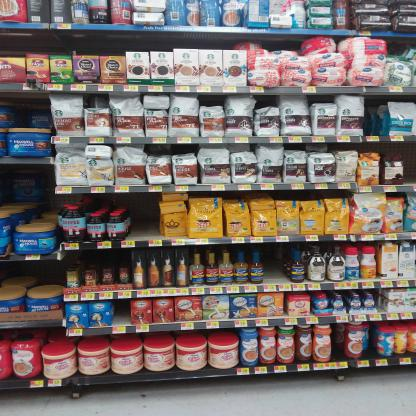Void: (7, 166, 48, 202), (130, 195, 156, 238), (15, 97, 49, 127), (19, 259, 61, 283), (266, 249, 288, 280), (401, 144, 415, 183), (114, 301, 126, 321), (253, 98, 278, 106), (313, 95, 335, 104), (89, 96, 107, 107), (200, 96, 223, 104)
